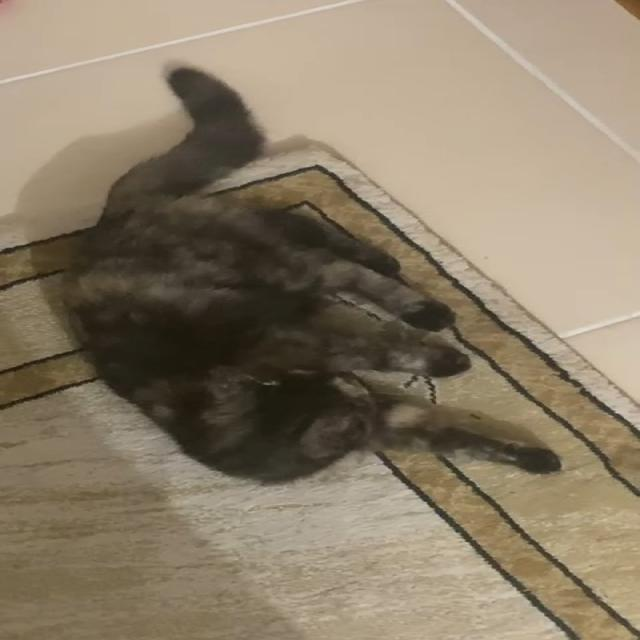authorized: (50, 63, 562, 486)
